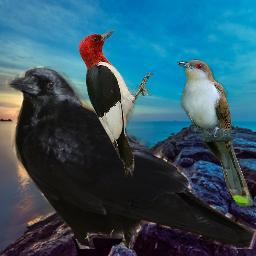Crow: (5, 66, 256, 249)
Cuckoo: (177, 59, 253, 207)
Woodpecker: (77, 28, 153, 177)
